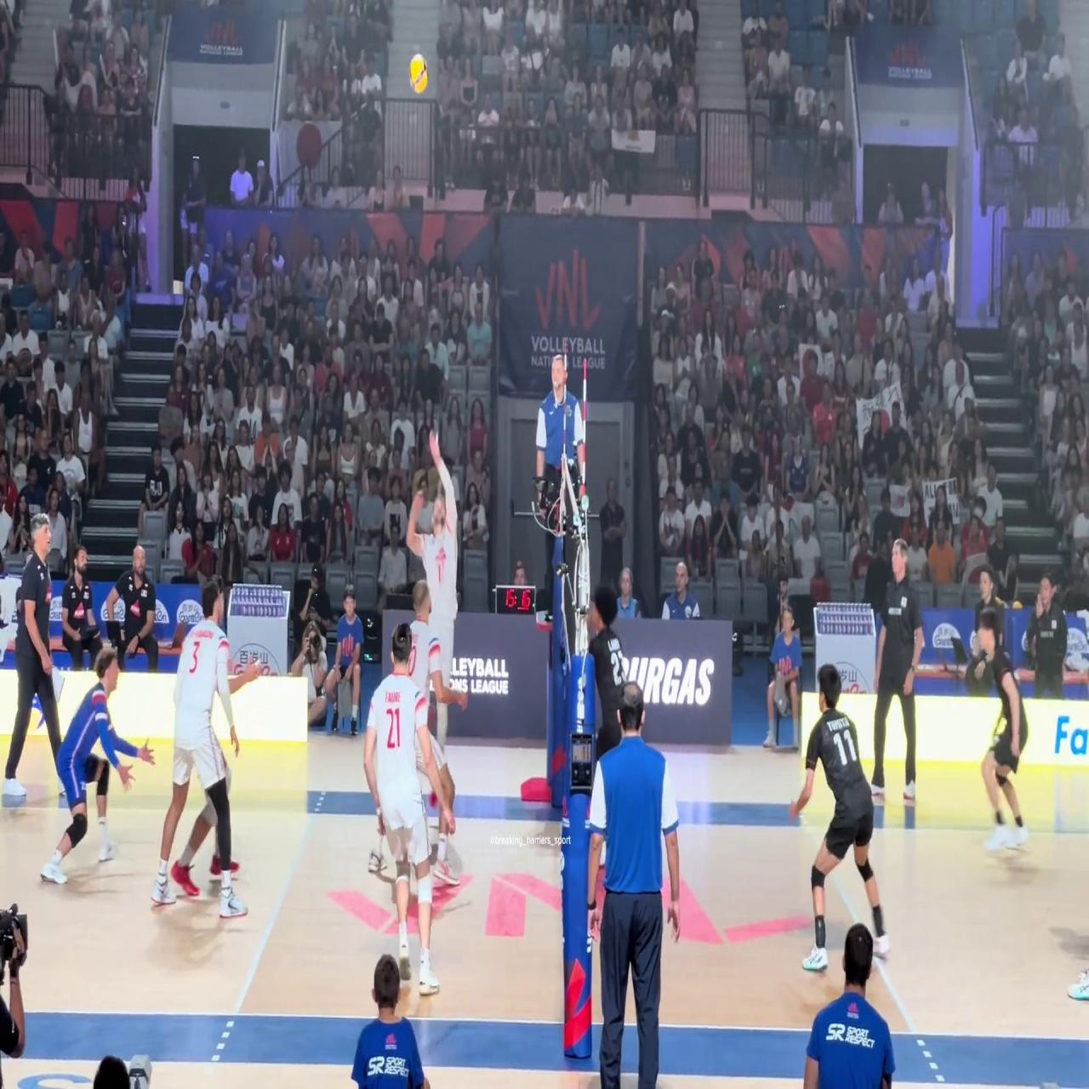ball: (408, 54, 428, 94)
